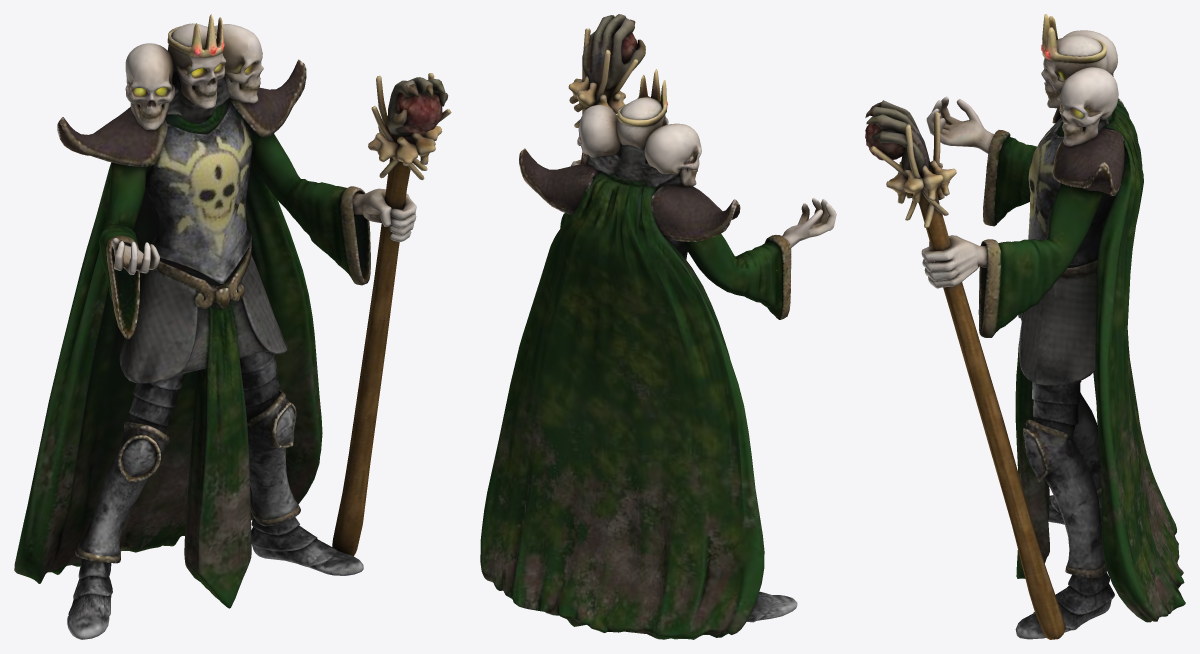
The model's file is MZ4250 - Skull Lord.glb.
3 renders of one model, left to right at view 1: azimuth 30°, elevation 25°; view 2: azimuth 150°, elevation 25°; view 3: azimuth 270°, elevation 25°, orthographic. The views are drawn at different scales.
Visible parts, largest first — view 1: Cylinder.001; view 2: Cylinder.001; view 3: Cylinder.001.
Part boxes in pixels (box(x1,y1,x2,y2)): Cylinder.001: box(14, 14, 451, 639); Cylinder.001: box(480, 14, 836, 639); Cylinder.001: box(865, 14, 1185, 639).
Size of the model in its own units: 0.6181 by 1.1 by 0.5669.
1 material, 1 textured.
